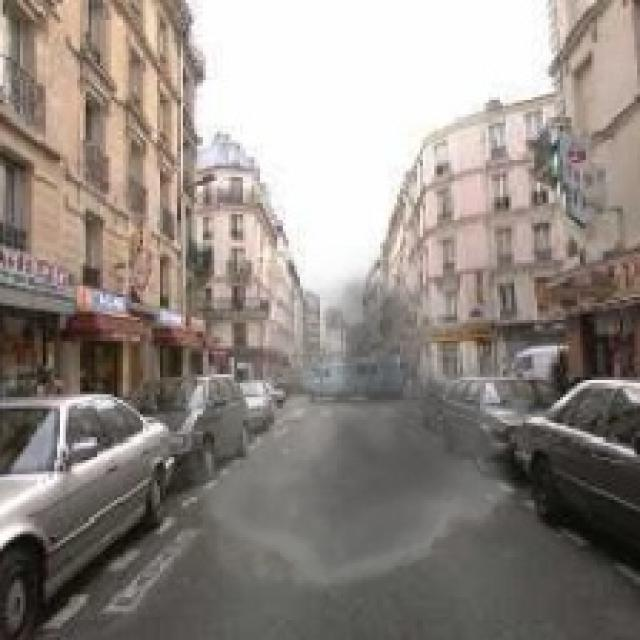smoke: (143, 245, 554, 606)
